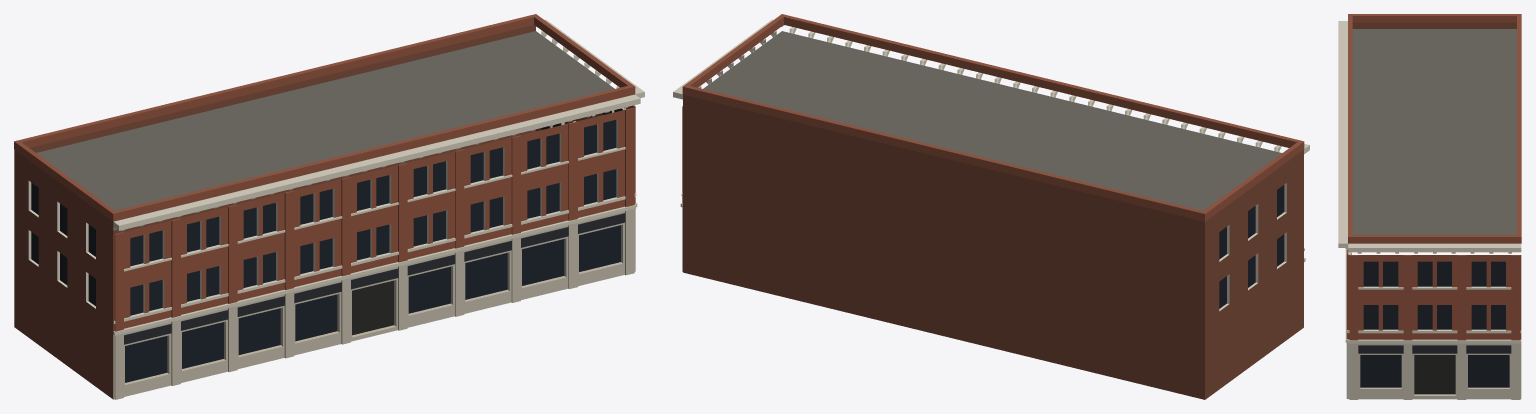
Rendered from furniture-company-building.glb.
The picture shows the model from 3 angles, left to right: view 1: azimuth 30°, elevation 25°; view 2: azimuth 150°, elevation 25°; view 3: azimuth 270°, elevation 25°; orthographic projection. The views are drawn at different scales.
Parts seen in each view (by area): view 1: furniture_brick, furniture_roof, furniture_glass, furniture_brick2, furniture_stone, furniture_trim, furniture_sign, furniture_sash, furniture_dark; view 2: furniture_brick2, furniture_roof, furniture_brick, furniture_trim, furniture_glass, furniture_sash; view 3: furniture_roof, furniture_brick, furniture_glass, furniture_trim, furniture_stone, furniture_dark, furniture_sign, furniture_brick2, furniture_sash.
Part boxes in pixels (box(x1,y1,x2,y2)): furniture_brick: box(14, 14, 635, 331); furniture_roof: box(36, 31, 614, 230); furniture_glass: box(31, 108, 622, 382); furniture_brick2: box(14, 25, 535, 399); furniture_stone: box(113, 208, 635, 399); furniture_trim: box(113, 19, 644, 335); furniture_sign: box(124, 213, 625, 344); furniture_sash: box(28, 108, 625, 316); furniture_dark: box(352, 280, 393, 335); furniture_brick2: box(683, 94, 1303, 399); furniture_roof: box(703, 31, 1281, 210); furniture_brick: box(682, 14, 1304, 221); furniture_trim: box(673, 19, 1309, 262); furniture_glass: box(1219, 185, 1284, 308); furniture_sash: box(1219, 183, 1286, 311); furniture_roof: box(1352, 29, 1516, 234); furniture_brick: box(1346, 14, 1521, 340); furniture_glass: box(1360, 261, 1509, 387); furniture_trim: box(1338, 21, 1521, 343); furniture_stone: box(1346, 252, 1521, 399); furniture_dark: box(1414, 355, 1455, 394); furniture_sign: box(1358, 345, 1511, 353); furniture_brick2: box(1352, 22, 1516, 28); furniture_sash: box(1348, 252, 1505, 330).
Size of the model in its own units: 42.82 by 14.3 by 14.62.
